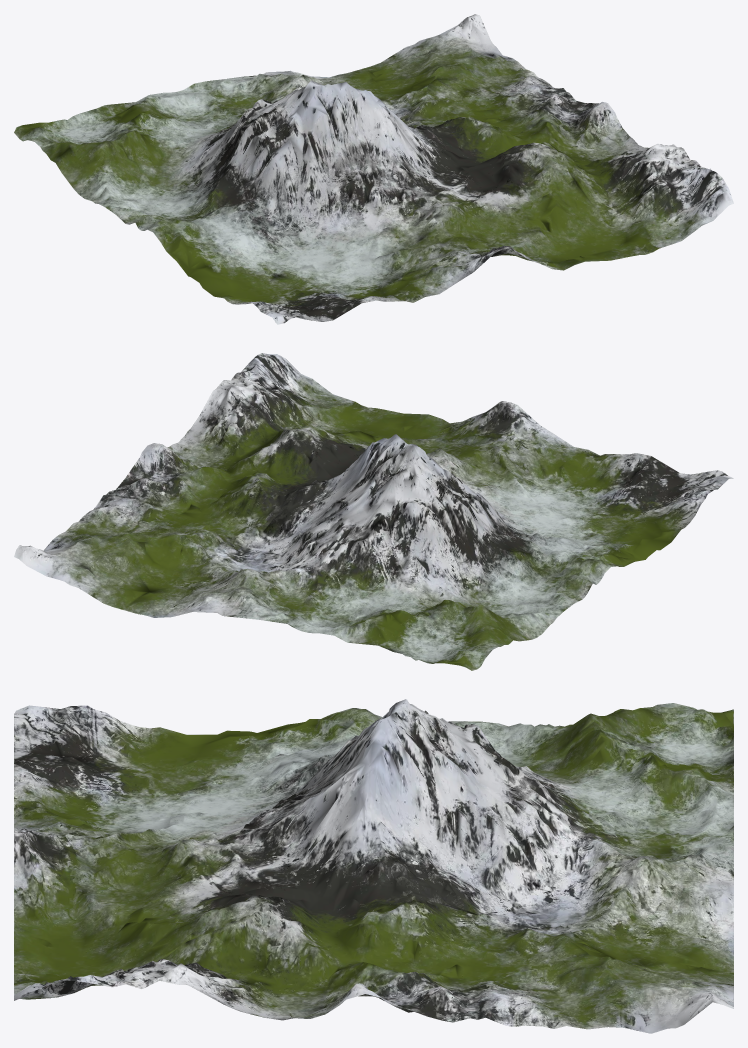
The model's file is Prado.glb.
3 views of the same model, one above another, from view 1: azimuth 30°, elevation 25°; view 2: azimuth 150°, elevation 25°; view 3: azimuth 270°, elevation 25° (orthographic). The views are drawn at different scales.
Parts seen in each view (by area): view 1: g; view 2: g; view 3: g.
Boxes of the visible parts, x1=… form: g: x1=14, y1=14, x2=733, y2=324; g: x1=14, y1=353, x2=733, y2=670; g: x1=14, y1=699, x2=733, y2=1033.
Size of the model in its own units: 2.25 by 0.5578 by 2.25.
Materials: 1 (1 with a texture image).
